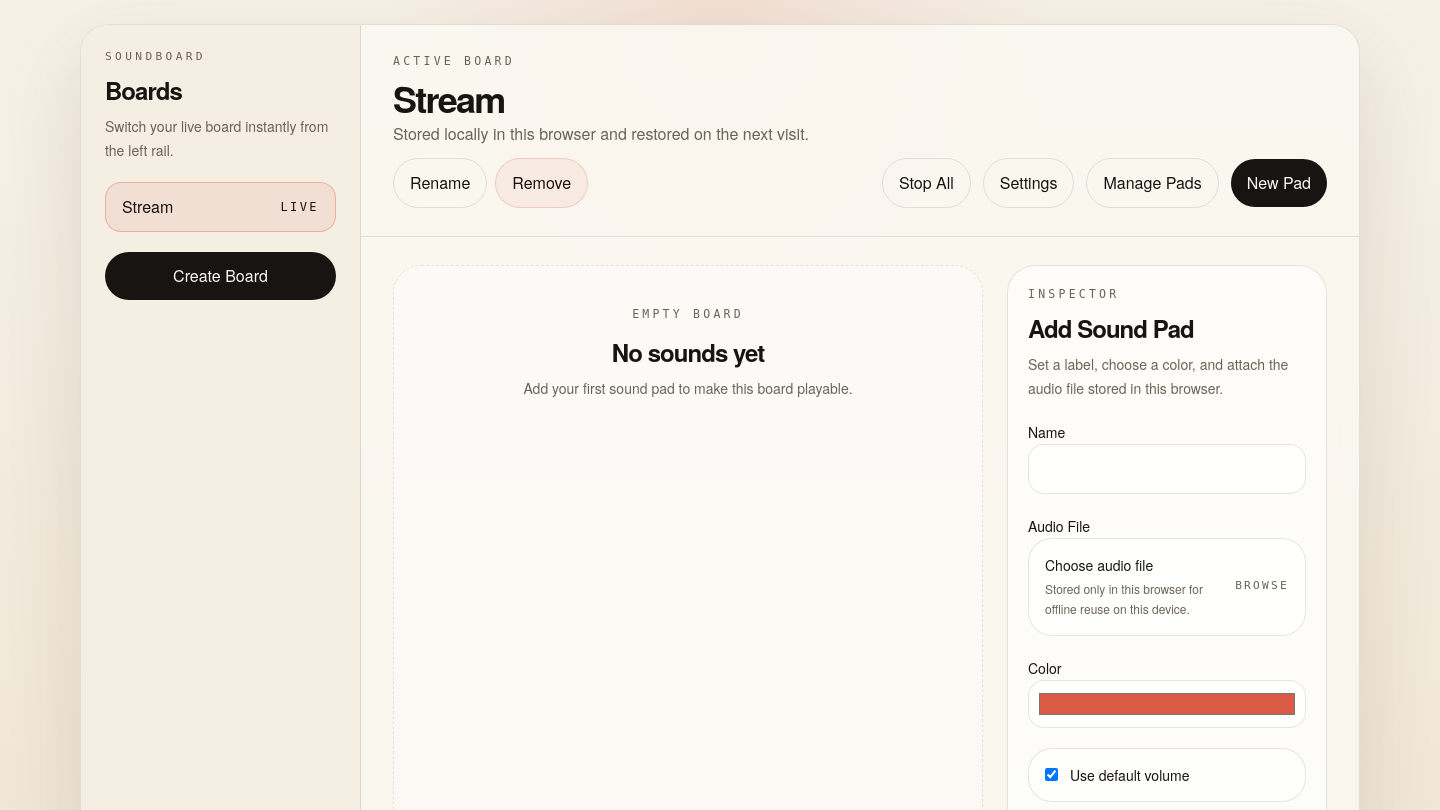
Test: SoundboardApp › shows the unsupported browser explanation for audio output selection
The width and height of the screenshot is (1440, 810).
Click the button "Settings".
click(1029, 183)  # box [983,158,1074,208]
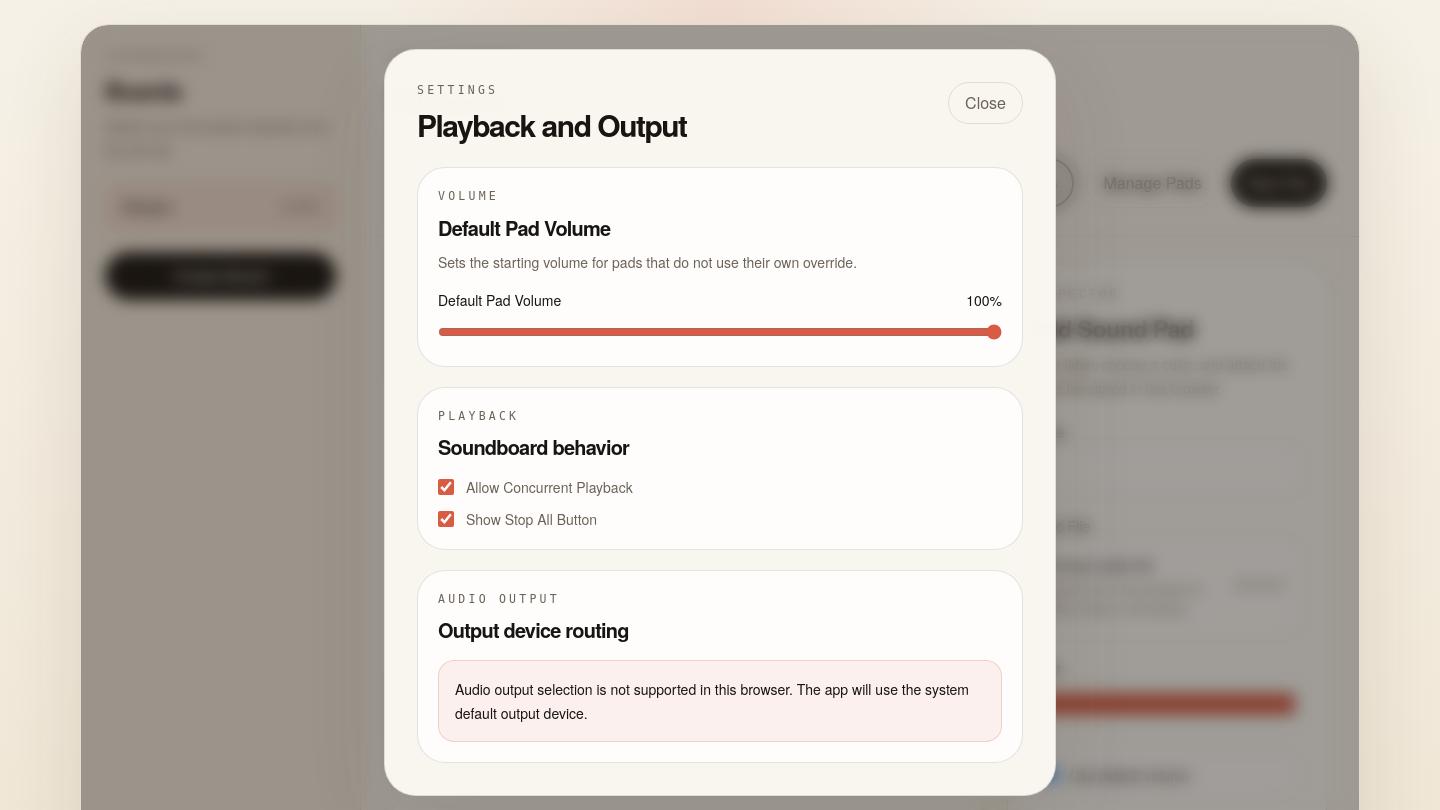
Expected: the text "Audio output selection is not supported in this browser" is shown, [455,679,969,723]
